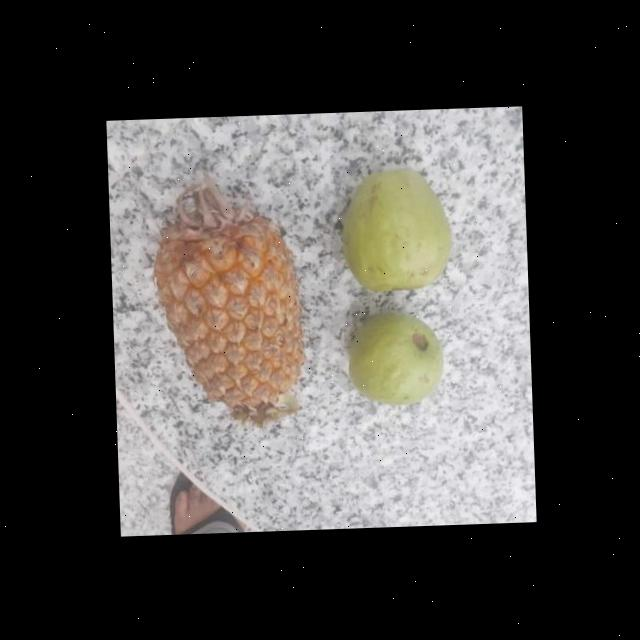guava: (335, 166, 456, 290), (344, 310, 450, 405)
pineapple: (150, 208, 310, 420)
